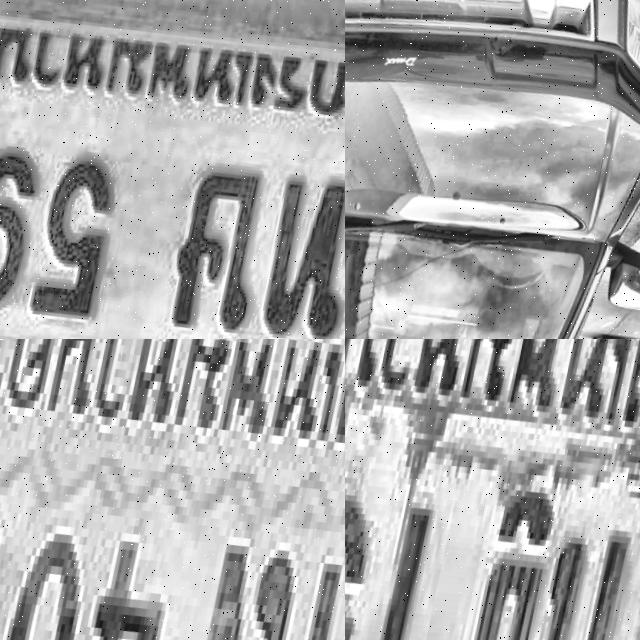license-plate: (0, 0, 345, 339), (0, 339, 345, 640), (345, 339, 640, 640)
